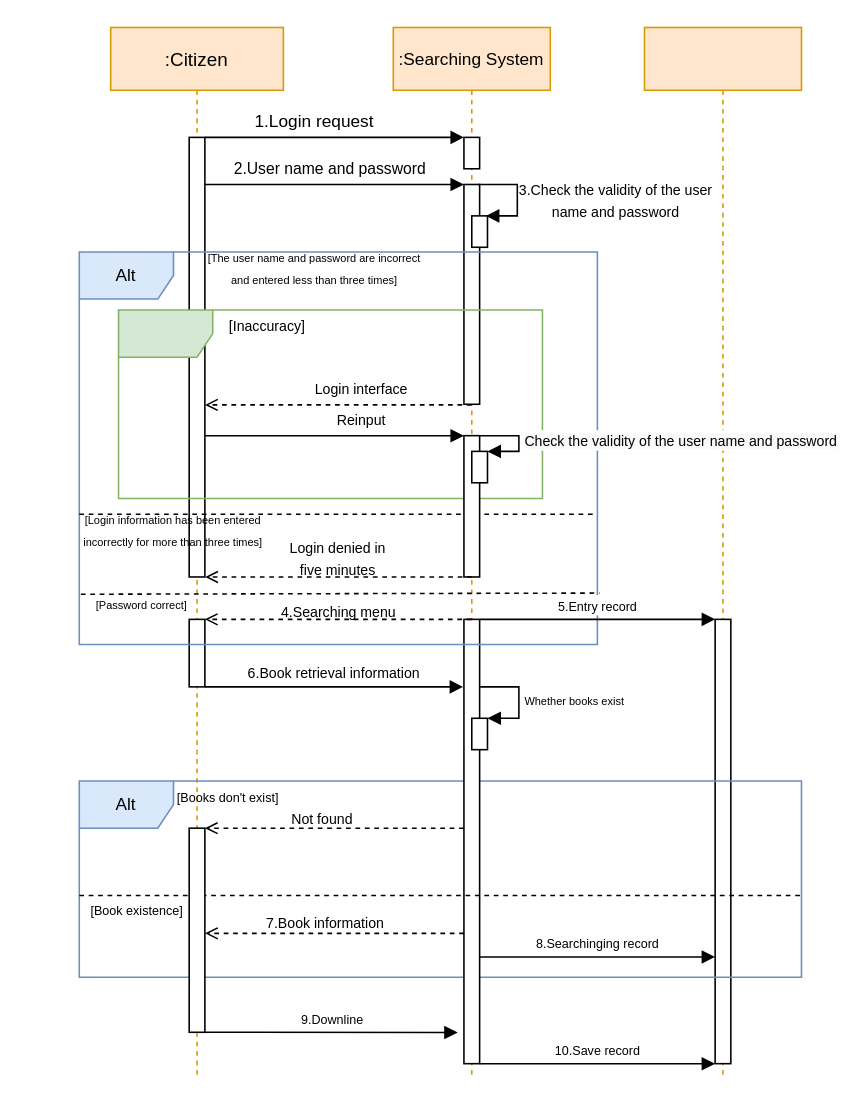
Image size: 864x1107. Some labels were removed from this diagram. Each missing label, with the box of its shape:
:Database: (643, 26, 801, 1079)
Loop: (117, 309, 542, 498)
